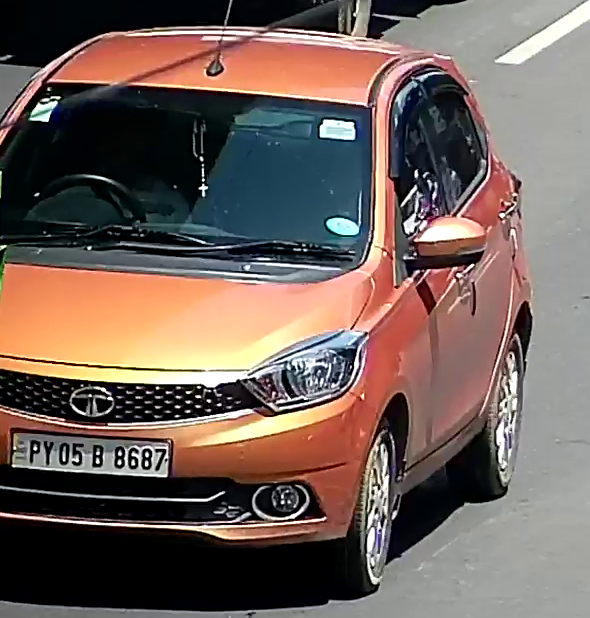0: (58, 441, 70, 466)
5: (70, 441, 84, 466)
6: (126, 446, 140, 469)
7: (154, 447, 167, 471)
8: (113, 444, 126, 468), (141, 447, 153, 470)
B: (91, 443, 104, 468)
P: (29, 438, 41, 464)
P1: (9, 427, 171, 481)
Y: (42, 438, 55, 466)
